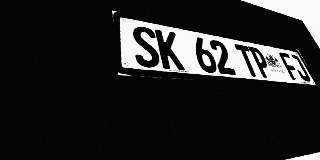2: (208, 39, 236, 75)
6: (190, 36, 219, 74)
F: (278, 52, 302, 81)
J: (288, 54, 312, 82)
K: (155, 29, 185, 71)
P: (248, 46, 274, 78)
S: (131, 24, 162, 69)
T: (234, 44, 261, 77)
